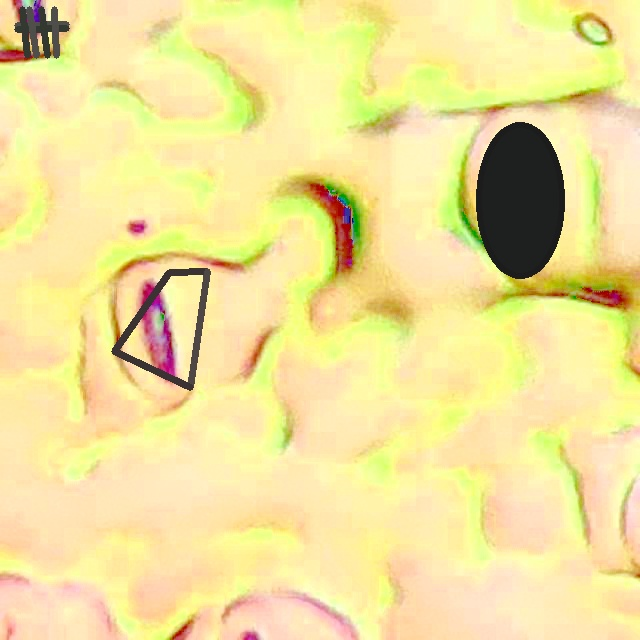open: (476, 122, 564, 278), (111, 269, 210, 390), (14, 6, 69, 58)
